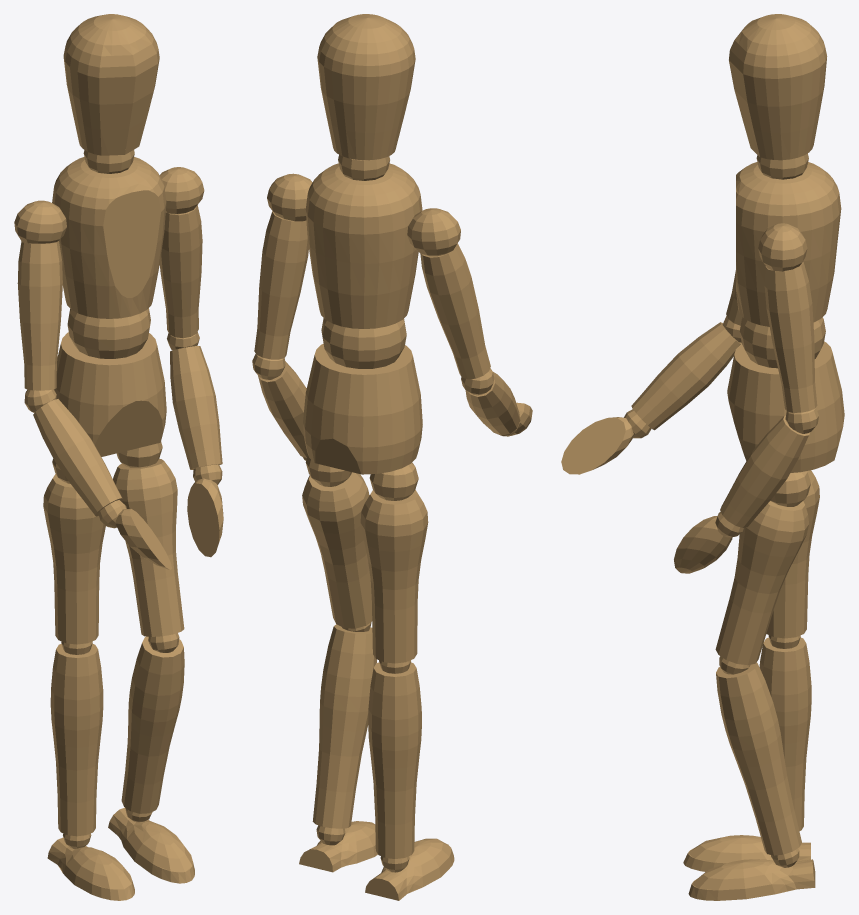
Rendered from eteks-mannequin.glb.
3 views of the same model, side by side, from view 1: azimuth 30°, elevation 25°; view 2: azimuth 150°, elevation 25°; view 3: azimuth 270°, elevation 25° (orthographic). The views are drawn at different scales.
Visible parts, largest first — view 1: sweethome3d_mannequin_chest, sweethome3d_mannequin_head, sweethome3d_mannequin_pelvis, sweethome3d_mannequin_right_leg, sweethome3d_mannequin_left_leg, sweethome3d_mannequin_right_thigh, sweethome3d_mannequin_left_thigh, sweethome3d_mannequin_right_arm, sweethome3d_mannequin_left_forearm, sweethome3d_mannequin_left_arm, sweethome3d_mannequin_right_forearm, sweethome3d_mannequin_left_foot (+12 smaller); view 2: sweethome3d_mannequin_chest, sweethome3d_mannequin_pelvis, sweethome3d_mannequin_head, sweethome3d_mannequin_left_leg, sweethome3d_mannequin_right_leg, sweethome3d_mannequin_right_thigh, sweethome3d_mannequin_left_thigh, sweethome3d_mannequin_left_arm, sweethome3d_mannequin_right_arm, sweethome3d_mannequin_abdomen, sweethome3d_mannequin_right_foot, sweethome3d_mannequin_left_forearm (+8 smaller); view 3: sweethome3d_mannequin_head, sweethome3d_mannequin_chest, sweethome3d_mannequin_left_leg, sweethome3d_mannequin_left_thigh, sweethome3d_mannequin_pelvis, sweethome3d_mannequin_left_arm, sweethome3d_mannequin_right_leg, sweethome3d_mannequin_right_forearm, sweethome3d_mannequin_left_forearm, sweethome3d_mannequin_left_foot, sweethome3d_mannequin_right_thigh, sweethome3d_mannequin_right_hand (+7 smaller).
Part boxes in pixels (<box>): sweethome3d_mannequin_chest: <box>52,157,166,318</box>; sweethome3d_mannequin_head: <box>63,14,159,155</box>; sweethome3d_mannequin_pelvis: <box>54,332,166,456</box>; sweethome3d_mannequin_right_leg: <box>50,643,103,836</box>; sweethome3d_mannequin_left_leg: <box>121,636,184,813</box>; sweethome3d_mannequin_right_thigh: <box>43,474,105,644</box>; sweethome3d_mannequin_left_thigh: <box>113,458,184,636</box>; sweethome3d_mannequin_right_arm: <box>17,241,62,390</box>; sweethome3d_mannequin_left_forearm: <box>170,346,222,469</box>; sweethome3d_mannequin_left_arm: <box>159,205,202,338</box>; sweethome3d_mannequin_right_forearm: <box>33,399,122,516</box>; sweethome3d_mannequin_left_foot: <box>108,807,194,883</box>; sweethome3d_mannequin_chest: <box>305,163,422,328</box>; sweethome3d_mannequin_pelvis: <box>303,343,422,474</box>; sweethome3d_mannequin_head: <box>317,14,415,160</box>; sweethome3d_mannequin_left_leg: <box>312,624,376,828</box>; sweethome3d_mannequin_right_leg: <box>368,662,421,858</box>; sweethome3d_mannequin_right_thigh: <box>360,490,428,663</box>; sweethome3d_mannequin_left_thigh: <box>302,472,372,628</box>; sweethome3d_mannequin_left_arm: <box>254,211,308,359</box>; sweethome3d_mannequin_right_arm: <box>420,243,490,379</box>; sweethome3d_mannequin_abdomen: <box>321,318,406,368</box>; sweethome3d_mannequin_right_foot: <box>365,838,454,900</box>; sweethome3d_mannequin_left_forearm: <box>258,361,307,457</box>; sweethome3d_mannequin_head: <box>729,14,827,160</box>; sweethome3d_mannequin_chest: <box>736,162,841,326</box>; sweethome3d_mannequin_left_leg: <box>716,662,801,855</box>; sweethome3d_mannequin_left_thigh: <box>715,501,808,665</box>; sweethome3d_mannequin_pelvis: <box>727,341,844,472</box>; sweethome3d_mannequin_left_arm: <box>764,262,817,412</box>; sweethome3d_mannequin_right_leg: <box>759,637,811,831</box>; sweethome3d_mannequin_right_forearm: <box>631,322,741,430</box>; sweethome3d_mannequin_left_forearm: <box>720,415,809,527</box>; sweethome3d_mannequin_left_foot: <box>688,859,815,900</box>; sweethome3d_mannequin_right_thigh: <box>766,470,819,638</box>; sweethome3d_mannequin_right_hand: <box>561,417,633,474</box>.
Bounding box in the file's own units: 43.98 × 175 × 52.29.
